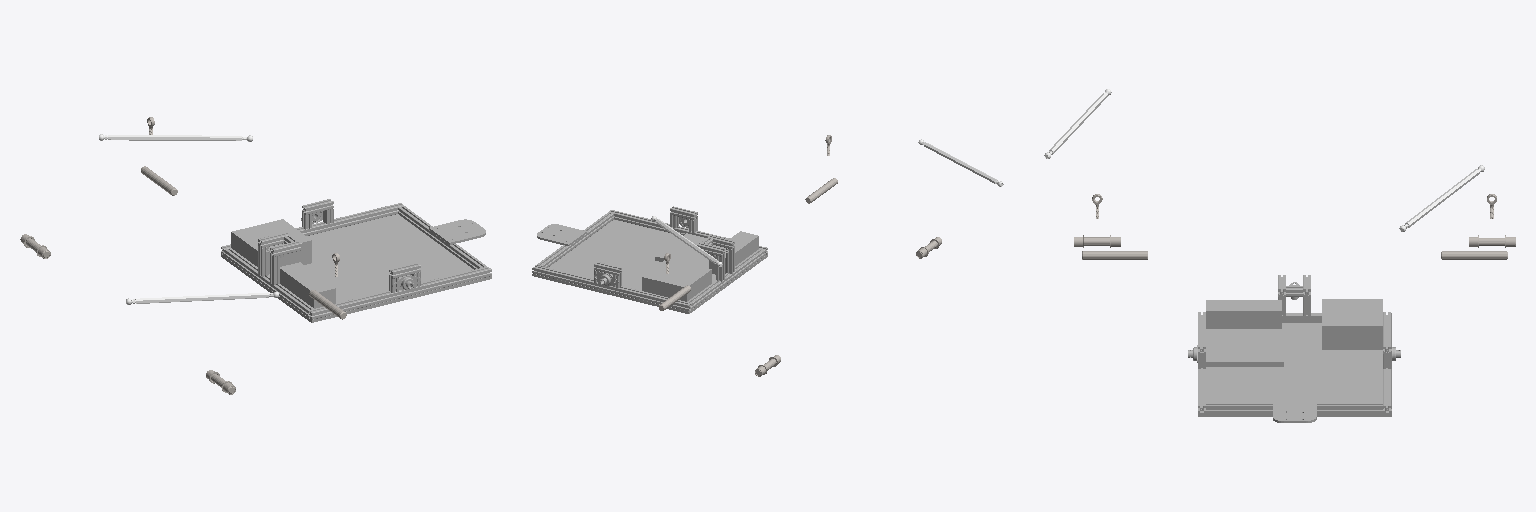
The robot description file, URDF, robot "Chassis_LiDAR.SLDASM":
<?xml version="1.0" encoding="utf-8"?>
<!-- This URDF was automatically created by SolidWorks to URDF Exporter! Originally created by Stephen Brawner (brawner@gmail.com) 
     Commit Version: 1.6.0-4-g7f85cfe  Build Version: 1.6.7995.38578
     For more information, please see http://wiki.ros.org/sw_urdf_exporter -->
<robot
  name="Chassis_LiDAR.SLDASM">
  <link
    name="base_link">
    <inertial>
      <origin
        xyz="-0.323229813769833 0.000141183589907848 0.120313130621598"
        rpy="0 0 0" />
      <mass
        value="2.88138673191465" />
      <inertia
        ixx="0.0724633578123081"
        ixy="2.4117935594847E-08"
        ixz="-3.29816621665502E-05"
        iyy="0.0548014420226571"
        iyz="8.0293496587126E-10"
        izz="0.0898029030844551" />
    </inertial>
    <visual>
      <origin
        xyz="0 0 0"
        rpy="0 0 0" />
      <geometry>
        <mesh
          filename="package://Chassis_LiDAR.SLDASM/meshes/base_link.STL" />
      </geometry>
      <material
        name="">
        <color
          rgba="0.752941176470588 0.752941176470588 0.752941176470588 1" />
      </material>
    </visual>
    <collision>
      <origin
        xyz="0 0 0"
        rpy="0 0 0" />
      <geometry>
        <mesh
          filename="package://Chassis_LiDAR.SLDASM/meshes/base_link.STL" />
      </geometry>
    </collision>
  </link>
  <link
    name="Right Rocker">
    <inertial>
      <origin
        xyz="-0.0470976490281694 -0.0448158737746225 -0.118054988916964"
        rpy="0 0 0" />
      <mass
        value="0.974964014824881" />
      <inertia
        ixx="0.00284906323511148"
        ixy="-0.00444784140235752"
        ixz="1.33471689810363E-09"
        iyy="0.0172676366004055"
        iyz="9.60008892408592E-10"
        izz="0.0195862693676572" />
    </inertial>
    <visual>
      <origin
        xyz="0 0 0"
        rpy="0 0 0" />
      <geometry>
        <mesh
          filename="package://Chassis_LiDAR.SLDASM/meshes/Right Rocker.STL" />
      </geometry>
      <material
        name="">
        <color
          rgba="0.776470588235294 0.756862745098039 0.737254901960784 1" />
      </material>
    </visual>
    <collision>
      <origin
        xyz="0 0 0"
        rpy="0 0 0" />
      <geometry>
        <mesh
          filename="package://Chassis_LiDAR.SLDASM/meshes/Right Rocker.STL" />
      </geometry>
    </collision>
  </link>
  <joint
    name="Rocker Shaft"
    type="revolute">
    <origin
      xyz="-0.249999999999999 -0.231912500000005 0.103175000000004"
      rpy="1.5707963267949 0 3.14159265358979" />
    <parent
      link="base_link" />
    <child
      link="Right Rocker" />
    <axis
      xyz="0 0 1" />
    <limit
      lower="0"
      upper="0"
      effort="0"
      velocity="0" />
  </joint>
  <link
    name="Right Bogie">
    <inertial>
      <origin
        xyz="0.203635407466599 0.2145400678577 -0.0518013750263509"
        rpy="0 0 0" />
      <mass
        value="0.69234892612608" />
      <inertia
        ixx="0.00439017289042799"
        ixy="-0.000948428018236932"
        ixz="-1.88916824406535E-09"
        iyy="0.000659039174918484"
        iyz="2.49581956768709E-09"
        izz="0.00478764386960297" />
    </inertial>
    <visual>
      <origin
        xyz="0 0 0"
        rpy="0 0 0" />
      <geometry>
        <mesh
          filename="package://Chassis_LiDAR.SLDASM/meshes/Right Bogie.STL" />
      </geometry>
      <material
        name="">
        <color
          rgba="0.776470588235294 0.756862745098039 0.737254901960784 1" />
      </material>
    </visual>
    <collision>
      <origin
        xyz="0 0 0"
        rpy="0 0 0" />
      <geometry>
        <mesh
          filename="package://Chassis_LiDAR.SLDASM/meshes/Right Bogie.STL" />
      </geometry>
    </collision>
  </link>
  <joint
    name="Bogie Shaft"
    type="revolute">
    <origin
      xyz="0 0 -0.0710724999999995"
      rpy="0 0 -1.3340072638942" />
    <parent
      link="Right Rocker" />
    <child
      link="Right Bogie" />
    <axis
      xyz="0 0 1" />
    <limit
      lower="0"
      upper="0"
      effort="0"
      velocity="0" />
  </joint>
  <link
    name="Left Rocker">
    <inertial>
      <origin
        xyz="-0.0451247596141575 -0.0452705197660333 0.118270519873372"
        rpy="0 0 0" />
      <mass
        value="1.00770361002077" />
      <inertia
        ixx="0.00285721776922938"
        ixy="-0.00444783818477076"
        ixz="6.76417855514565E-10"
        iyy="0.0172757873818173"
        iyz="-1.47558983143685E-09"
        izz="0.0195865649048137" />
    </inertial>
    <visual>
      <origin
        xyz="0 0 0"
        rpy="0 0 0" />
      <geometry>
        <mesh
          filename="package://Chassis_LiDAR.SLDASM/meshes/Left Rocker.STL" />
      </geometry>
      <material
        name="">
        <color
          rgba="0.776470588235294 0.756862745098039 0.737254901960784 1" />
      </material>
    </visual>
    <collision>
      <origin
        xyz="0 0 0"
        rpy="0 0 0" />
      <geometry>
        <mesh
          filename="package://Chassis_LiDAR.SLDASM/meshes/Left Rocker.STL" />
      </geometry>
    </collision>
  </link>
  <joint
    name="Left Rocker Shaft"
    type="revolute">
    <origin
      xyz="-0.249999999999993 0.2319125 0.103175"
      rpy="1.5707963267949 0 3.14159265358979" />
    <parent
      link="base_link" />
    <child
      link="Left Rocker" />
    <axis
      xyz="0 0 1" />
    <limit
      lower="0"
      upper="0"
      effort="0"
      velocity="0" />
  </joint>
  <link
    name="Left Bogie">
    <inertial>
      <origin
        xyz="0.272914275860278 0.114071810196028 0.0518013764409567"
        rpy="0 0 0" />
      <mass
        value="0.692348926149588" />
      <inertia
        ixx="0.0030814865883096"
        ixy="-0.00201735952503282"
        ixz="3.12804196913544E-09"
        iyy="0.00196772547706536"
        iyz="1.15710661689454E-10"
        izz="0.00478764386963138" />
    </inertial>
    <visual>
      <origin
        xyz="0 0 0"
        rpy="0 0 0" />
      <geometry>
        <mesh
          filename="package://Chassis_LiDAR.SLDASM/meshes/Left Bogie.STL" />
      </geometry>
      <material
        name="">
        <color
          rgba="0.776470588235294 0.756862745098039 0.737254901960784 1" />
      </material>
    </visual>
    <collision>
      <origin
        xyz="0 0 0"
        rpy="0 0 0" />
      <geometry>
        <mesh
          filename="package://Chassis_LiDAR.SLDASM/meshes/Left Bogie.STL" />
      </geometry>
    </collision>
  </link>
  <joint
    name="Left Bogie Shaft"
    type="revolute">
    <origin
      xyz="0 0 0.0710724999999997"
      rpy="0 0 -0.918445891779081" />
    <parent
      link="Left Rocker" />
    <child
      link="Left Bogie" />
    <axis
      xyz="0 0 1" />
    <limit
      lower="0"
      upper="0"
      effort="0"
      velocity="0" />
  </joint>
  <link
    name="Differential">
    <inertial>
      <origin
        xyz="0.0710384527714692 0.000112700908656449 -2.3610871489485E-05"
        rpy="0 0 0" />
      <mass
        value="0.554107403626057" />
      <inertia
        ixx="0.0238053446113705"
        ixy="-1.15816973049344E-10"
        ixz="-5.06498670032286E-12"
        iyy="0.0225057222235537"
        iyz="-0.00515290954253886"
        izz="0.00131171927062141" />
    </inertial>
    <visual>
      <origin
        xyz="0 0 0"
        rpy="0 0 0" />
      <geometry>
        <mesh
          filename="package://Chassis_LiDAR.SLDASM/meshes/Differential.STL" />
      </geometry>
      <material
        name="">
        <color
          rgba="0.792156862745098 0.819607843137255 0.933333333333333 1" />
      </material>
    </visual>
    <collision>
      <origin
        xyz="0 0 0"
        rpy="0 0 0" />
      <geometry>
        <mesh
          filename="package://Chassis_LiDAR.SLDASM/meshes/Differential.STL" />
      </geometry>
    </collision>
  </link>
  <joint
    name="Differential Shaft"
    type="fixed">
    <origin
      xyz="-0.535735000346326 0 0.172959349967733"
      rpy="1.34449872437947 -1.5707963267949 0" />
    <parent
      link="base_link" />
    <child
      link="Differential" />
    <axis
      xyz="0 0 0" />
  </joint>
  <link
    name="Right Link">
    <inertial>
      <origin
        xyz="-0.000471291073627783 0.0112321500184396 0.142506113978008"
        rpy="0 0 0" />
      <mass
        value="0.05398550944847" />
      <inertia
        ixx="0.000246620491894376"
        ixy="2.33568929226547E-09"
        ixz="-2.91259563380216E-06"
        iyy="0.000246654922094324"
        iyz="1.93850794929742E-07"
        izz="7.40166661712097E-07" />
    </inertial>
    <visual>
      <origin
        xyz="0 0 0"
        rpy="0 0 0" />
      <geometry>
        <mesh
          filename="package://Chassis_LiDAR.SLDASM/meshes/Right Link.STL" />
      </geometry>
      <material
        name="">
        <color
          rgba="0.956862745098039 0.956862745098039 0.956862745098039 1" />
      </material>
    </visual>
    <collision>
      <origin
        xyz="0 0 0"
        rpy="0 0 0" />
      <geometry>
        <mesh
          filename="package://Chassis_LiDAR.SLDASM/meshes/Right Link.STL" />
      </geometry>
    </collision>
  </link>
  <joint
    name="Ball Joint"
    type="fixed">
    <origin
      xyz="0.0560233773404954 0.0853557886785634 0.373801741885768"
      rpy="-1.3176295022306 -0.921537097065375 2.93275549574364" />
    <parent
      link="Differential" />
    <child
      link="Right Link" />
    <axis
      xyz="0 0 0" />
  </joint>
  <link
    name="Left Link">
    <inertial>
      <origin
        xyz="0.00299799683585367 0.0150427510893051 0.142506106117699"
        rpy="0 0 0" />
      <mass
        value="0.0539855050480288" />
      <inertia
        ixx="0.000246654065741038"
        ixy="5.412008474393E-09"
        ixz="-4.65158454975012E-07"
        iyy="0.000246621269416747"
        iyz="2.88146121733807E-06"
        izz="7.40160009972091E-07" />
    </inertial>
    <visual>
      <origin
        xyz="0 0 0"
        rpy="0 0 0" />
      <geometry>
        <mesh
          filename="package://Chassis_LiDAR.SLDASM/meshes/Left Link.STL" />
      </geometry>
      <material
        name="">
        <color
          rgba="0.956862745098039 0.956862745098039 0.956862745098039 1" />
      </material>
    </visual>
    <collision>
      <origin
        xyz="0 0 0"
        rpy="0 0 0" />
      <geometry>
        <mesh
          filename="package://Chassis_LiDAR.SLDASM/meshes/Left Link.STL" />
      </geometry>
    </collision>
  </link>
  <joint
    name="Left Ball Joint"
    type="fixed">
    <origin
      xyz="0.0350110824114719 -0.0872504888517618 -0.375654244677153"
      rpy="1.17820685088737 0.685887280433608 -0.262288923601871" />
    <parent
      link="Differential" />
    <child
      link="Left Link" />
    <axis
      xyz="0 0 0" />
  </joint>
  <link
    name="leftGPS">
    <inertial>
      <origin
        xyz="0.00950000000000195 -0.0125 0.00949999999999895"
        rpy="0 0 0" />
      <mass
        value="0.00902500000000001" />
      <inertia
        ixx="7.41554166666662E-07"
        ixy="1.2981977056571E-23"
        ixz="1.76465197344646E-22"
        iyy="5.43004166666662E-07"
        iyz="-3.65912371745863E-22"
        izz="7.41554166666668E-07" />
    </inertial>
    <visual>
      <origin
        xyz="0 0 0"
        rpy="0 0 0" />
      <geometry>
        <mesh
          filename="package://Chassis_LiDAR.SLDASM/meshes/leftGPS.STL" />
      </geometry>
      <material
        name="">
        <color
          rgba="0.792156862745098 0.819607843137255 0.933333333333333 1" />
      </material>
    </visual>
    <collision>
      <origin
        xyz="0 0 0"
        rpy="0 0 0" />
      <geometry>
        <mesh
          filename="package://Chassis_LiDAR.SLDASM/meshes/leftGPS.STL" />
      </geometry>
    </collision>
  </link>
  <joint
    name="gpsLeft"
    type="fixed">
    <origin
      xyz="-0.259500000000003 0.273263899999999 0.209999999999999"
      rpy="0 0 0" />
    <parent
      link="base_link" />
    <child
      link="leftGPS" />
    <axis
      xyz="0 0 0" />
  </joint>
  <link
    name="rightGPS">
    <inertial>
      <origin
        xyz="0.00950000000000001 0.0125 0.00950000000000004"
        rpy="0 0 0" />
      <mass
        value="0.00902500000000002" />
      <inertia
        ixx="7.41554166666676E-07"
        ixy="-2.83730506341327E-23"
        ixz="-2.061810166457E-22"
        iyy="5.43004166666677E-07"
        iyz="-1.52473566064512E-22"
        izz="7.41554166666669E-07" />
    </inertial>
    <visual>
      <origin
        xyz="0 0 0"
        rpy="0 0 0" />
      <geometry>
        <mesh
          filename="package://Chassis_LiDAR.SLDASM/meshes/rightGPS.STL" />
      </geometry>
      <material
        name="">
        <color
          rgba="0.792156862745098 0.819607843137255 0.933333333333333 1" />
      </material>
    </visual>
    <collision>
      <origin
        xyz="0 0 0"
        rpy="0 0 0" />
      <geometry>
        <mesh
          filename="package://Chassis_LiDAR.SLDASM/meshes/rightGPS.STL" />
      </geometry>
    </collision>
  </link>
  <joint
    name="gpsRight"
    type="fixed">
    <origin
      xyz="-0.259500000000003 -0.273263900000005 0.209999999999999"
      rpy="0 0 0" />
    <parent
      link="base_link" />
    <child
      link="rightGPS" />
    <axis
      xyz="0 0 0" />
  </joint>
  <link
    name="IMU">
    <inertial>
      <origin
        xyz="0.00950000000000004 0.0125 0.00950000000000004"
        rpy="0 0 0" />
      <mass
        value="0.00902500000000001" />
      <inertia
        ixx="7.41554166666668E-07"
        ixy="8.38209687387069E-23"
        ixz="-8.05441709605198E-22"
        iyy="5.43004166666636E-07"
        iyz="3.35283874954827E-23"
        izz="7.41554166666636E-07" />
    </inertial>
    <visual>
      <origin
        xyz="0 0 0"
        rpy="0 0 0" />
      <geometry>
        <mesh
          filename="package://Chassis_LiDAR.SLDASM/meshes/IMU.STL" />
      </geometry>
      <material
        name="">
        <color
          rgba="0.792156862745098 0.819607843137255 0.933333333333333 1" />
      </material>
    </visual>
    <collision>
      <origin
        xyz="0 0 0"
        rpy="0 0 0" />
      <geometry>
        <mesh
          filename="package://Chassis_LiDAR.SLDASM/meshes/IMU.STL" />
      </geometry>
    </collision>
  </link>
  <joint
    name="IMU1"
    type="fixed">
    <origin
      xyz="-0.2575 -0.0125 0.20674"
      rpy="0 0 0" />
    <parent
      link="base_link" />
    <child
      link="IMU" />
    <axis
      xyz="0 0 0" />
  </joint>
  <link
    name="LiDAR">
    <inertial>
      <origin
        xyz="-0.0261061014235503 -4.55680518327666E-08 0.0285945311604336"
        rpy="0 0 0" />
      <mass
        value="0.215990422113963" />
      <inertia
        ixx="0.000114309470498173"
        ixy="3.04723500669431E-10"
        ixz="6.62518701274248E-07"
        iyy="0.000117411512226373"
        iyz="3.16376323048442E-11"
        izz="0.000124138179433063" />
    </inertial>
    <visual>
      <origin
        xyz="0 0 0"
        rpy="0 0 0" />
      <geometry>
        <mesh
          filename="package://Chassis_LiDAR.SLDASM/meshes/LiDAR.STL" />
      </geometry>
      <material
        name="">
        <color
          rgba="0.792156862745098 0.819607843137255 0.933333333333333 1" />
      </material>
    </visual>
    <collision>
      <origin
        xyz="0 0 0"
        rpy="0 0 0" />
      <geometry>
        <mesh
          filename="package://Chassis_LiDAR.SLDASM/meshes/LiDAR.STL" />
      </geometry>
    </collision>
  </link>
  <joint
    name="LiDAR joint"
    type="fixed">
    <origin
      xyz="0.0625 0 0.21476"
      rpy="0 0 0" />
    <parent
      link="base_link" />
    <child
      link="LiDAR" />
    <axis
      xyz="0 0 0" />
  </joint>
  <link
    name="PTZ">
    <inertial>
      <origin
        xyz="-0.00928620373163125 0.00150178339648377 -0.182772691673925"
        rpy="0 0 0" />
      <mass
        value="0.381186493803212" />
      <inertia
        ixx="0.0107542084275541"
        ixy="2.60656581835099E-06"
        ixz="-1.38823856983843E-06"
        iyy="0.0106927428807489"
        iyz="-1.71971531949832E-07"
        izz="0.000187498370638357" />
    </inertial>
    <visual>
      <origin
        xyz="0 0 0"
        rpy="0 0 0" />
      <geometry>
        <mesh
          filename="package://Chassis_LiDAR.SLDASM/meshes/PTZ.STL" />
      </geometry>
      <material
        name="">
        <color
          rgba="0.792156862745098 0.819607843137255 0.933333333333333 1" />
      </material>
    </visual>
    <collision>
      <origin
        xyz="0 0 0"
        rpy="0 0 0" />
      <geometry>
        <mesh
          filename="package://Chassis_LiDAR.SLDASM/meshes/PTZ.STL" />
      </geometry>
    </collision>
  </link>
  <joint
    name="PTZ Cam"
    type="fixed">
    <origin
      xyz="-0.60299 0.22239 0.951"
      rpy="0 0 0.2412" />
    <parent
      link="base_link" />
    <child
      link="PTZ" />
    <axis
      xyz="0 0 1" />
  </joint>
</robot>

--- What the picture shows (computed from the rendered views, not written in the file) ---
3 views of the same robot in one strip: view 1: azimuth 30°, elevation 25°; view 2: azimuth 150°, elevation 25°; view 3: azimuth 270°, elevation 25° (orthographic).
Robot: Chassis_LiDAR.SLDASM — 13 links, 12 joints (4 revolute, 8 fixed); root link base_link; default pose: all joints at 0.
Visible links, largest first — view 1: base_link, Left Link, Right Link, Right Rocker, Left Rocker; view 2: base_link; view 3: base_link, Left Rocker, Right Rocker, Left Link, Right Link.
Link boxes in pixels (<box>): base_link: <box>221,199,491,322</box>; Left Link: <box>99,134,252,141</box>; Right Link: <box>126,292,278,304</box>; Right Rocker: <box>206,253,346,394</box>; Left Rocker: <box>20,117,177,258</box>; base_link: <box>532,206,767,313</box>; base_link: <box>1188,275,1400,422</box>; Left Rocker: <box>1441,194,1515,259</box>; Right Rocker: <box>1074,194,1147,259</box>; Left Link: <box>1399,165,1484,231</box>; Right Link: <box>1044,89,1111,158</box>.
Size in the robot's own frame: 0.9807 by 0.8511 by 0.2338 metres.
7 mesh visuals loaded from 13 distinct referenced files (7 binary STL); not drawn: 6 (reference not matched to a file when rendering).
